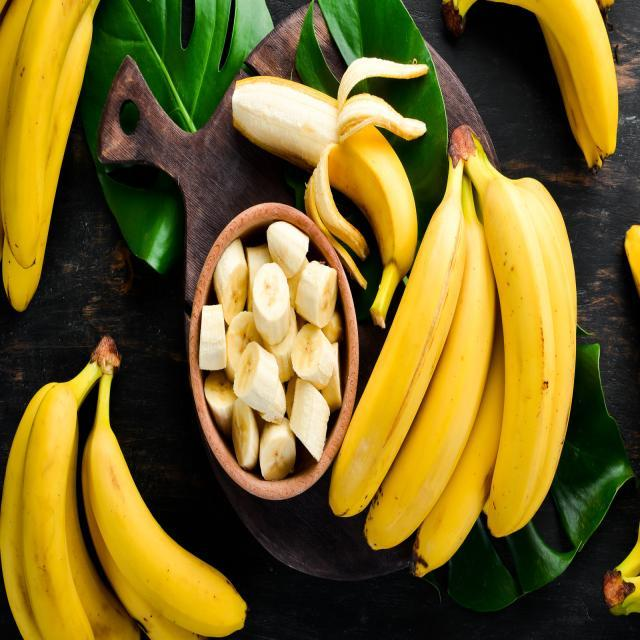banana: (347, 107, 568, 592), (1, 307, 240, 640), (233, 30, 444, 316)
